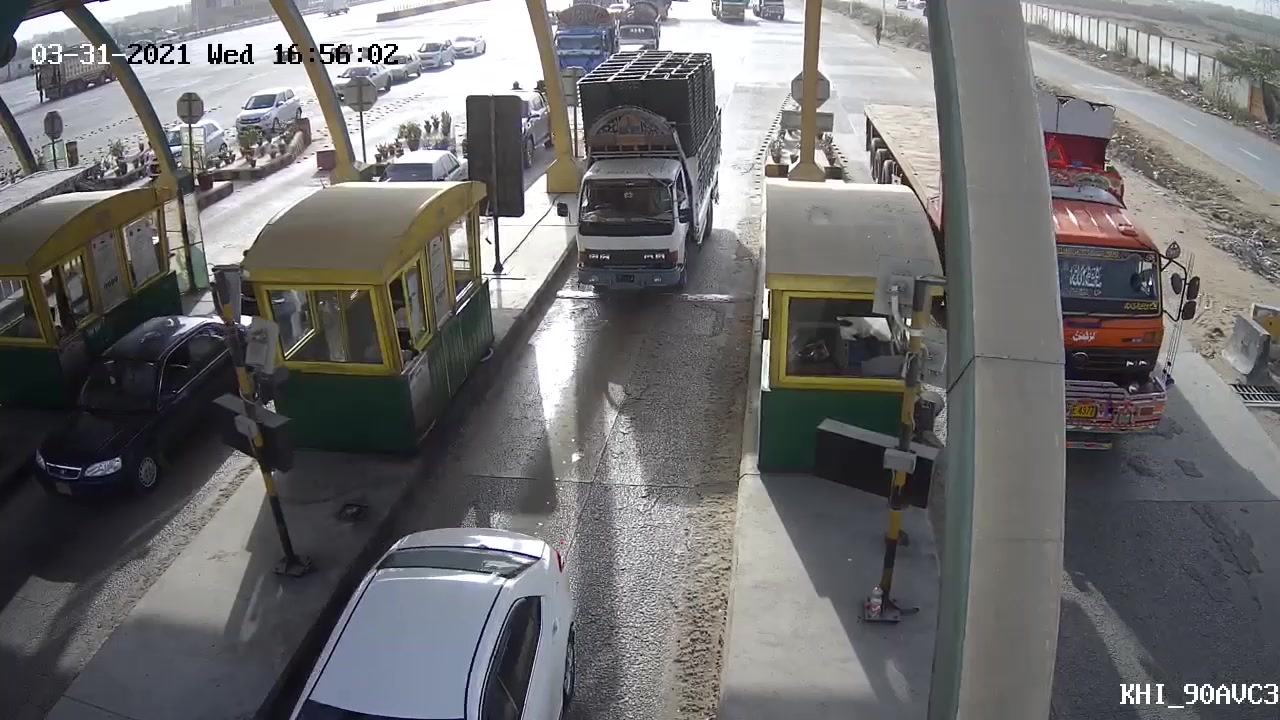F5: (556, 62, 720, 305)
